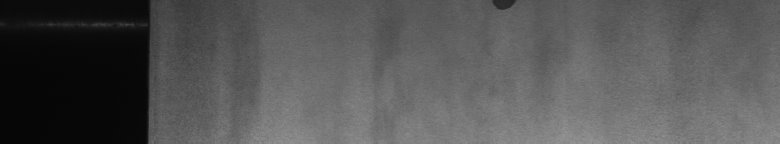fi: (483, 4, 516, 16)
